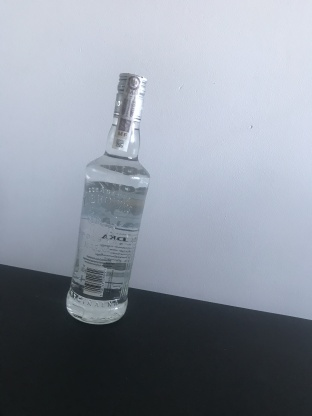nakretka: (111, 69, 148, 125)
